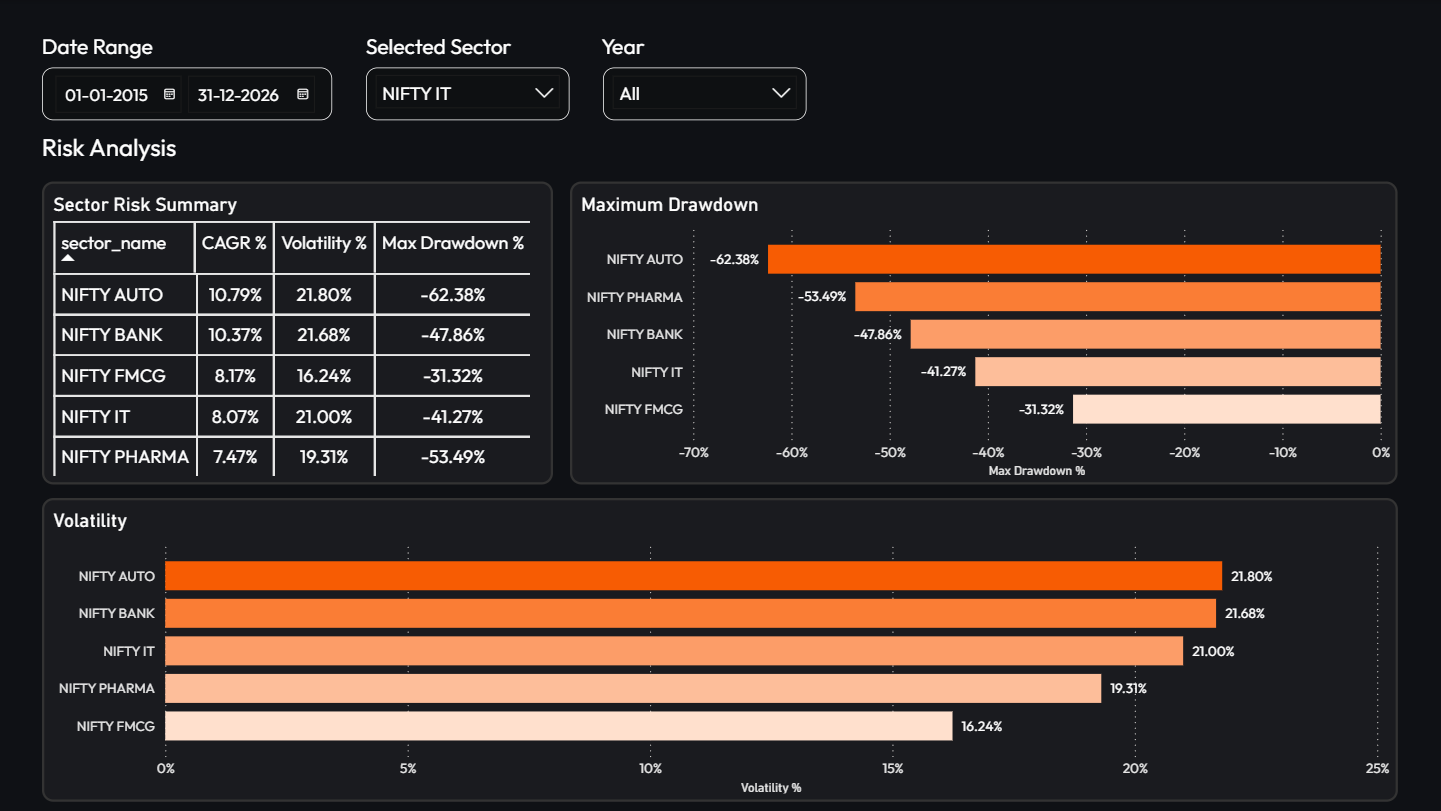

Layout of this report page (visuals, bound fields, positions):
{"tool":"powerbi","page":{"name":"Page 3","canvas":[1280,720],"ordinal":2},"visuals":[{"type":"clusteredBarChart","title":"Maximum Drawdown","fields":{"Y":["Measuress.Max Drawdown %"],"Category":["nifty_sector_dw dim_sector.sector_name"]},"box":[507,160,732,268],"z":0},{"type":"barChart","title":"Volatility","fields":{"Category":["nifty_sector_dw dim_sector.sector_name"],"Y":["Measuress.Volatility %"]},"box":[40,440,1199,268.3],"z":2000},{"type":"pivotTable","title":"Sector Risk Summary","fields":{"Rows":["nifty_sector_dw dim_sector.sector_name"],"Values":["Measuress.CAGR %","Measuress.Volatility %","Measuress.Max Drawdown %"]},"box":[40,160,452,268],"z":3000},{"type":"slicer","fields":{"Values":["Date_Table.Date"]},"box":[40,60,256.7,46.7],"z":4000},{"type":"textbox","box":[34,24,117,34.1],"z":5000},{"type":"textbox","box":[34,112,216.7,43.3],"z":6000},{"type":"slicer","fields":{"Values":["nifty_sector_dw dim_sector.sector_name"]},"box":[326,60,180,46.7],"z":7000},{"type":"textbox","box":[321.2,23.8,152.5,33.8],"z":8000},{"type":"slicer","fields":{"Values":["Date_Table.Year"]},"box":[536,60,180,46.7],"z":9000},{"type":"textbox","box":[530,24,132.9,34.1],"z":10000}]}

Visuals, with their boxes in screenshot pixels (x1, y1, x2, y2), scaled from the page's 1280x720 canvas onto the 1441x811 screenshot:
"Maximum Drawdown" clusteredBarChart: box=[571, 180, 1395, 482]
"Volatility" barChart: box=[45, 496, 1395, 798]
"Sector Risk Summary" pivotTable: box=[45, 180, 554, 482]
slicer - Date_Table.Date: box=[45, 68, 334, 120]
textbox: box=[38, 27, 170, 65]
textbox: box=[38, 126, 282, 175]
slicer - nifty_sector_dw dim_sector.sector_name: box=[367, 68, 570, 120]
textbox: box=[362, 27, 533, 65]
slicer - Date_Table.Year: box=[603, 68, 806, 120]
textbox: box=[597, 27, 746, 65]
